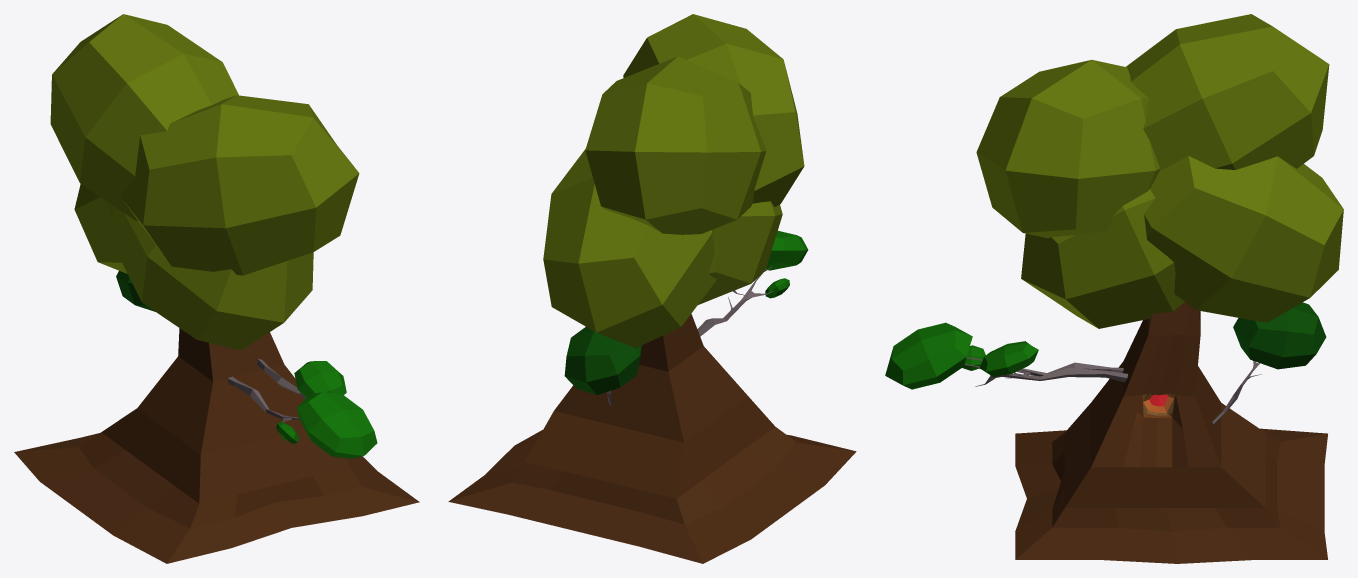
File: Cursed_Tree.fbx
3 renders of one model, left to right at view 1: azimuth 30°, elevation 25°; view 2: azimuth 150°, elevation 25°; view 3: azimuth 270°, elevation 25°, orthographic. The views are drawn at different scales.
Parts seen in each view (by area): view 1: Tree Body, Main Leaves.002, Main Leaves.003, Main Leaves, Leaves 1, Main Leaves.001, Leaves 1.001, Branch, Leaves 2; view 2: Tree Body, Main Leaves.003, Main Leaves.001, Main Leaves.002, Main Leaves, Leaves 2, Leaves 1, Branch; view 3: Tree Body, Main Leaves.001, Main Leaves.002, Main Leaves.003, Main Leaves, Leaves 2, Leaves 1, Leaves 1.001, Branch.002.
Boxes of the visible parts, box(x1,y1,x2,y2) form: Tree Body: box(14, 328, 419, 563); Main Leaves.002: box(121, 95, 359, 275); Main Leaves.003: box(50, 14, 238, 220); Main Leaves: box(112, 206, 313, 350); Leaves 1: box(297, 392, 377, 458); Main Leaves.001: box(74, 184, 127, 273); Leaves 1.001: box(294, 361, 346, 397); Branch: box(227, 376, 299, 422); Leaves 2: box(116, 271, 155, 311); Tree Body: box(448, 313, 856, 563); Main Leaves.003: box(585, 56, 766, 234); Main Leaves.001: box(543, 149, 716, 347); Main Leaves.002: box(623, 14, 804, 206); Main Leaves: box(698, 201, 782, 304); Leaves 2: box(564, 327, 641, 394); Leaves 1: box(766, 231, 808, 270); Branch: box(697, 266, 773, 336); Tree Body: box(1015, 302, 1327, 563); Main Leaves.001: box(1144, 156, 1343, 322); Main Leaves.002: box(976, 59, 1160, 238); Main Leaves.003: box(1126, 14, 1329, 170); Main Leaves: box(1021, 189, 1184, 328); Leaves 2: box(1233, 302, 1326, 369); Leaves 1: box(885, 322, 972, 389); Leaves 1.001: box(980, 341, 1038, 376); Branch.002: box(964, 364, 1128, 386).
Size of the model in its own units: 9685 by 14895 by 13817.
